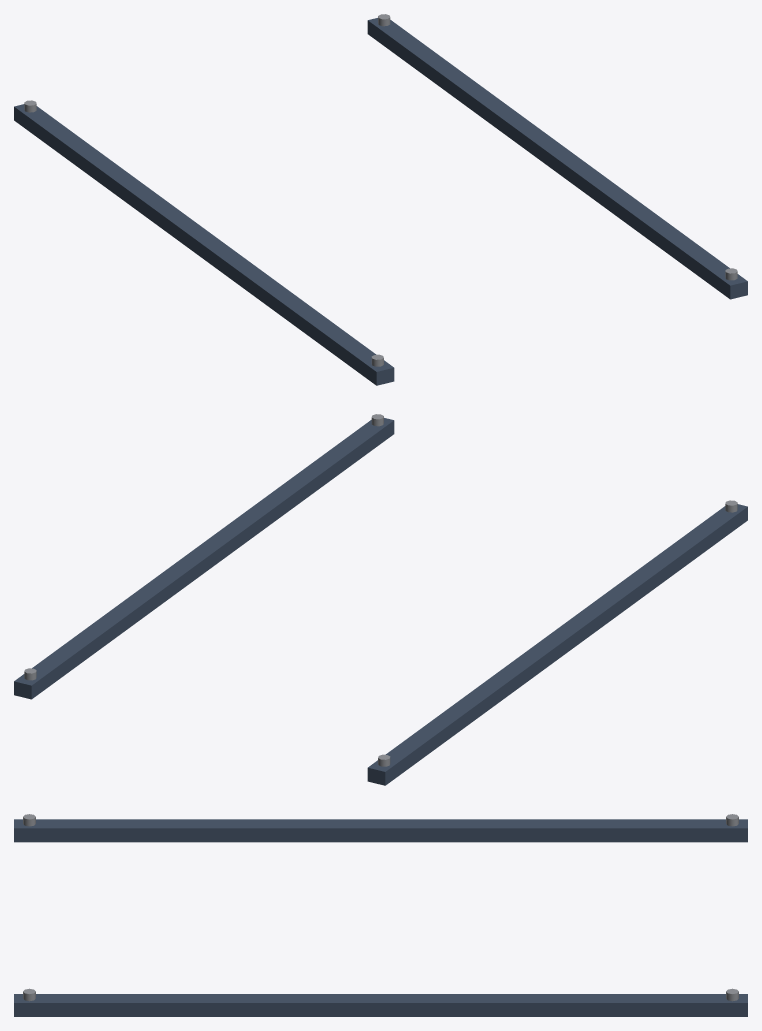
File: ak1_mounts.obj
3 renders of one model, top to bottom at view 1: azimuth 30°, elevation 25°; view 2: azimuth 150°, elevation 25°; view 3: azimuth 270°, elevation 25°, orthographic.
Parts seen in each view (by area): view 1: ak1_mounts; view 2: ak1_mounts; view 3: ak1_mounts.
Part boxes in pixels (box(x1,y1,x2,y2)): ak1_mounts: box(14, 14, 747, 385); ak1_mounts: box(14, 414, 747, 785); ak1_mounts: box(14, 814, 747, 1016).
Size of the model in its own units: 3.36 by 0.18 by 5.68.
